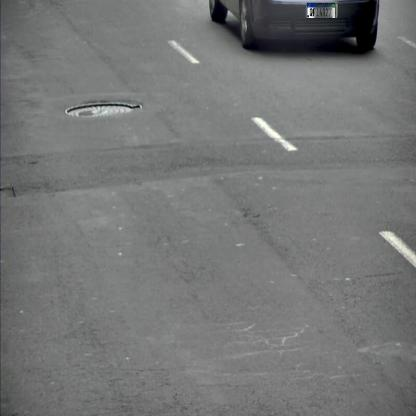PlacaM: (307, 2, 335, 18)
